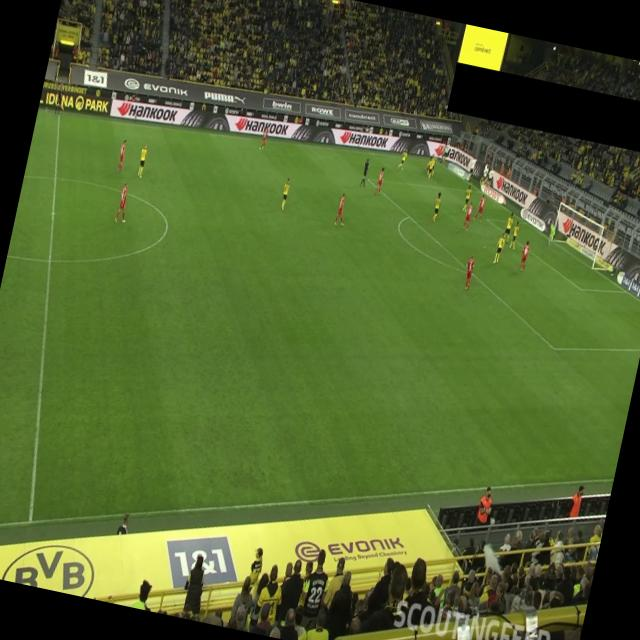goalkeeper: (544, 220, 558, 248)
player: (114, 182, 132, 225), (333, 192, 350, 226), (461, 252, 476, 290), (136, 142, 150, 178), (501, 210, 515, 244), (492, 230, 506, 264), (115, 138, 128, 173), (279, 176, 292, 211), (518, 238, 531, 272), (472, 193, 487, 222), (462, 200, 474, 232), (430, 190, 442, 222), (460, 183, 472, 213), (508, 220, 520, 250), (374, 166, 386, 196), (396, 148, 408, 172), (428, 152, 438, 178), (258, 126, 268, 151), (424, 156, 434, 180)
referee: (52, 80, 68, 116), (358, 156, 371, 188)
